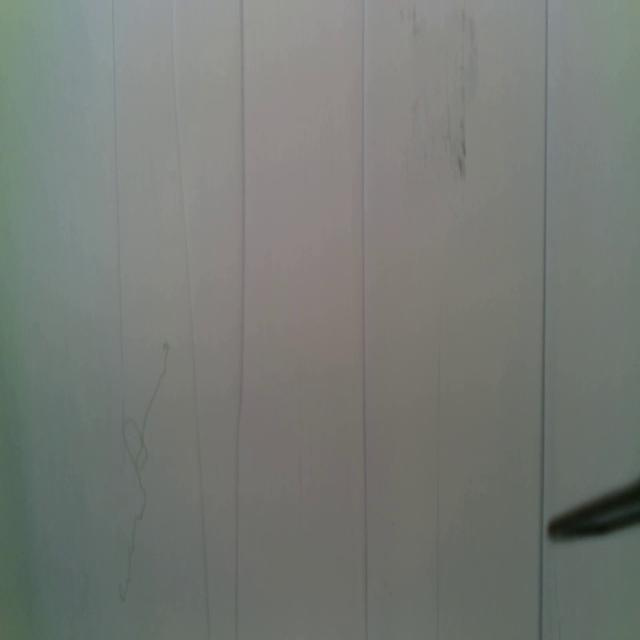crease: (172, 0, 212, 636), (536, 0, 550, 640), (232, 1, 246, 640), (107, 0, 126, 415), (360, 1, 370, 640), (432, 344, 442, 640)
